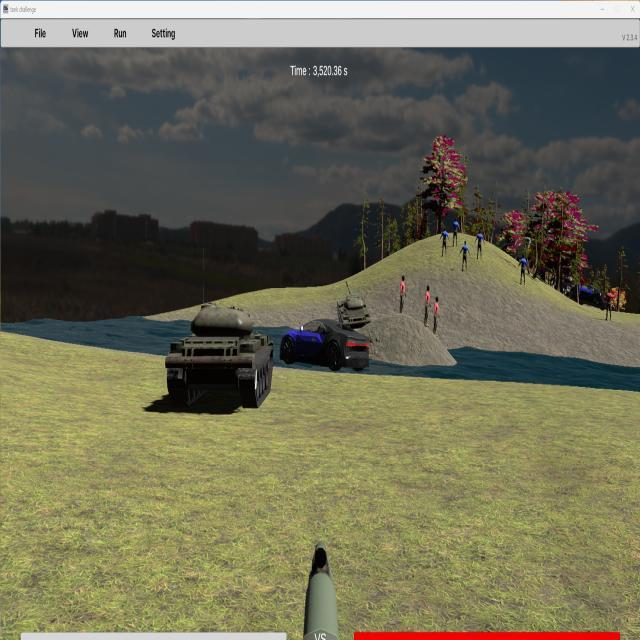Tank: (165, 301, 274, 410), (336, 282, 371, 331)
car: (280, 318, 370, 372)
